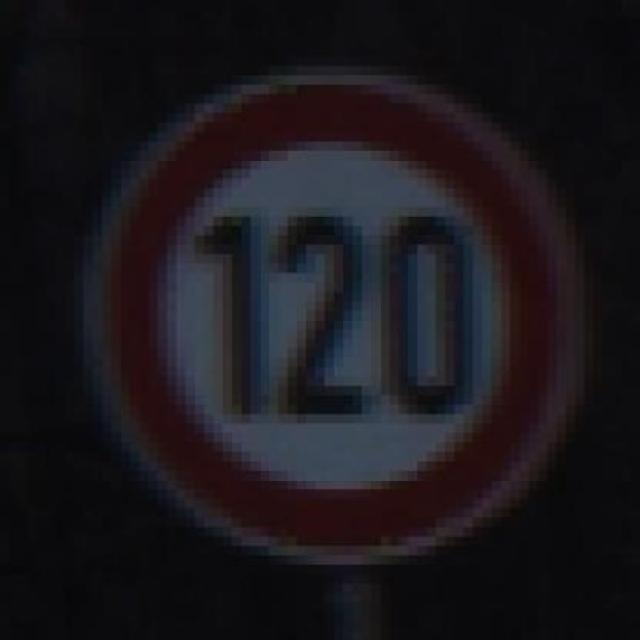forb_speed_over_120: (104, 76, 573, 556)
